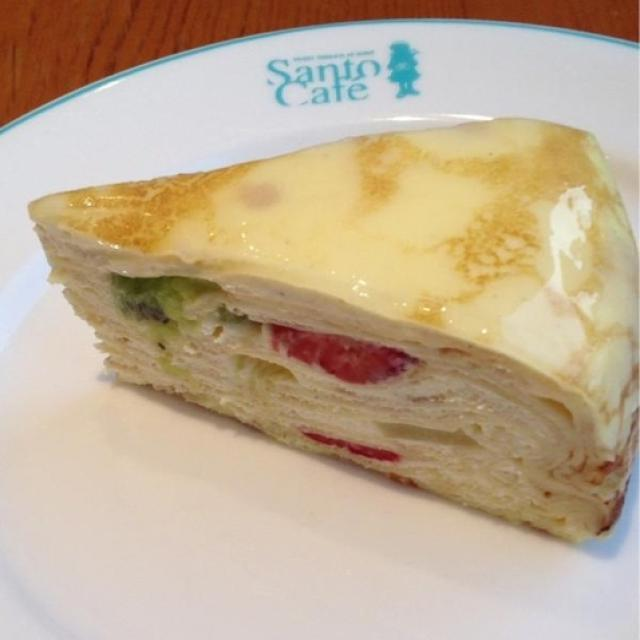蛋糕甜品: (38, 64, 638, 588)
